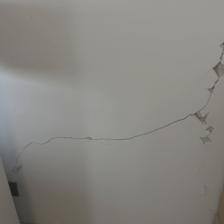High: (6, 39, 224, 169)
